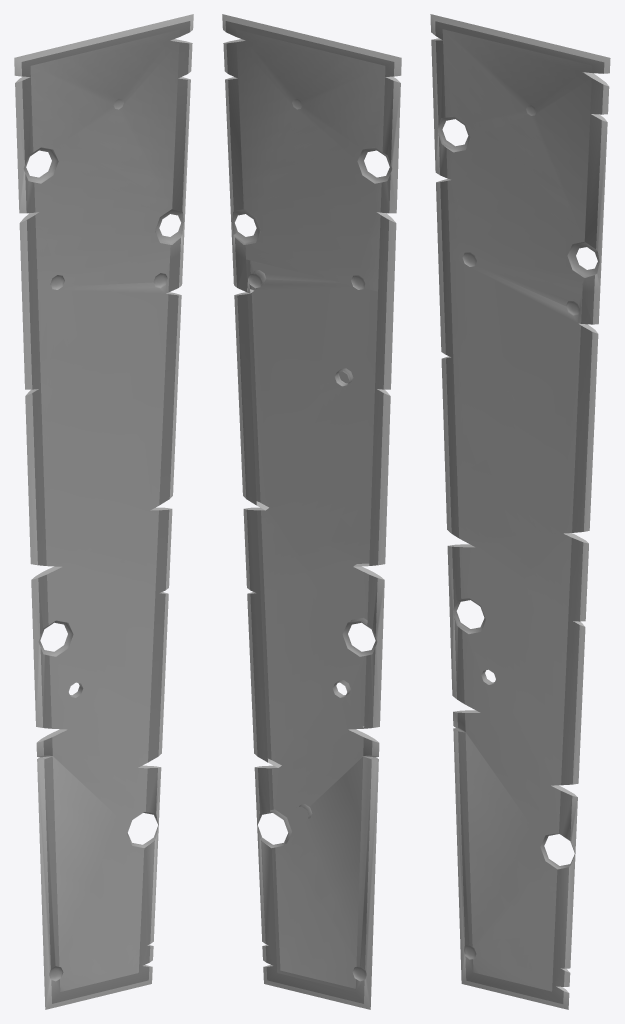
The model's file is stone_blade_bubbles_059.glb.
The picture shows the model from 3 angles, left to right: view 1: azimuth 30°, elevation 25°; view 2: azimuth 150°, elevation 25°; view 3: azimuth 330°, elevation 25°; orthographic projection.
Parts seen in each view (by area): view 1: stone_blade_bubbles.059; view 2: stone_blade_bubbles.059; view 3: stone_blade_bubbles.059.
Part boxes in pixels (x1=…): stone_blade_bubbles.059: x1=14, y1=14, x2=193, y2=1009; stone_blade_bubbles.059: x1=222, y1=14, x2=401, y2=1009; stone_blade_bubbles.059: x1=430, y1=14, x2=610, y2=1009.
Size of the model in its own units: 2.19 by 11.21 by 0.0882.
1 material, 1 textured.
